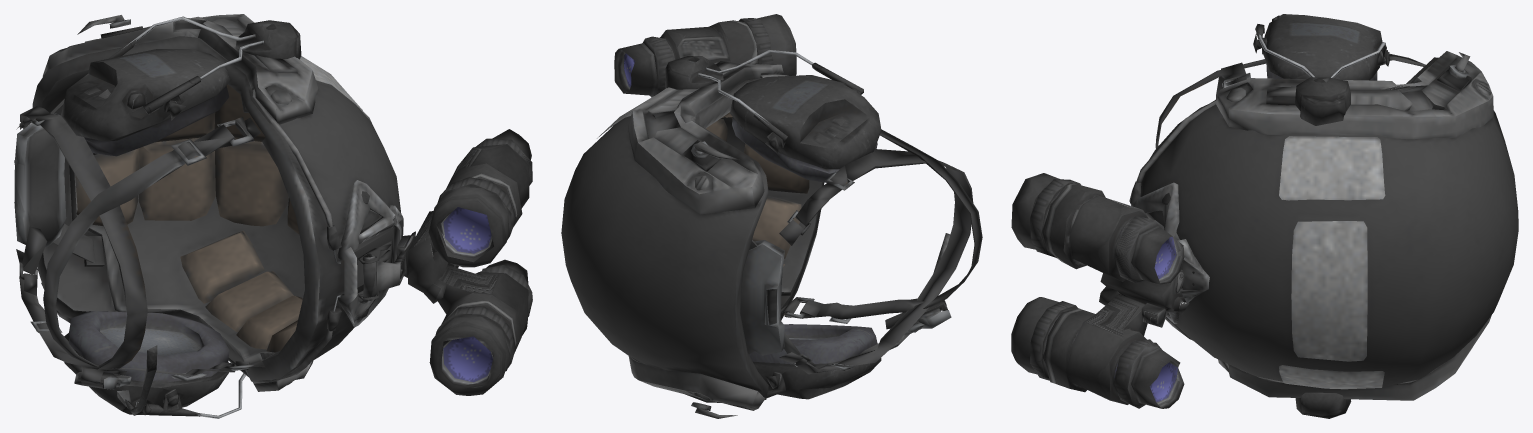
Rendered from M_GunRunnersHelmetNV.fbx.
3 renders of one model, left to right at view 1: azimuth 30°, elevation 25°; view 2: azimuth 150°, elevation 25°; view 3: azimuth 270°, elevation 25°, orthographic. The views are drawn at different scales.
Visible parts, largest first — view 1: GunRunner Helmet; view 2: GunRunner Helmet; view 3: GunRunner Helmet.
Boxes of the visible parts, left/top/right/bottom form: GunRunner Helmet: left=14, top=14, right=532, bottom=418; GunRunner Helmet: left=561, top=14, right=982, bottom=418; GunRunner Helmet: left=1011, top=14, right=1518, bottom=418.
Bounding box in the file's own units: 0.2091 × 0.1583 × 0.2126.
